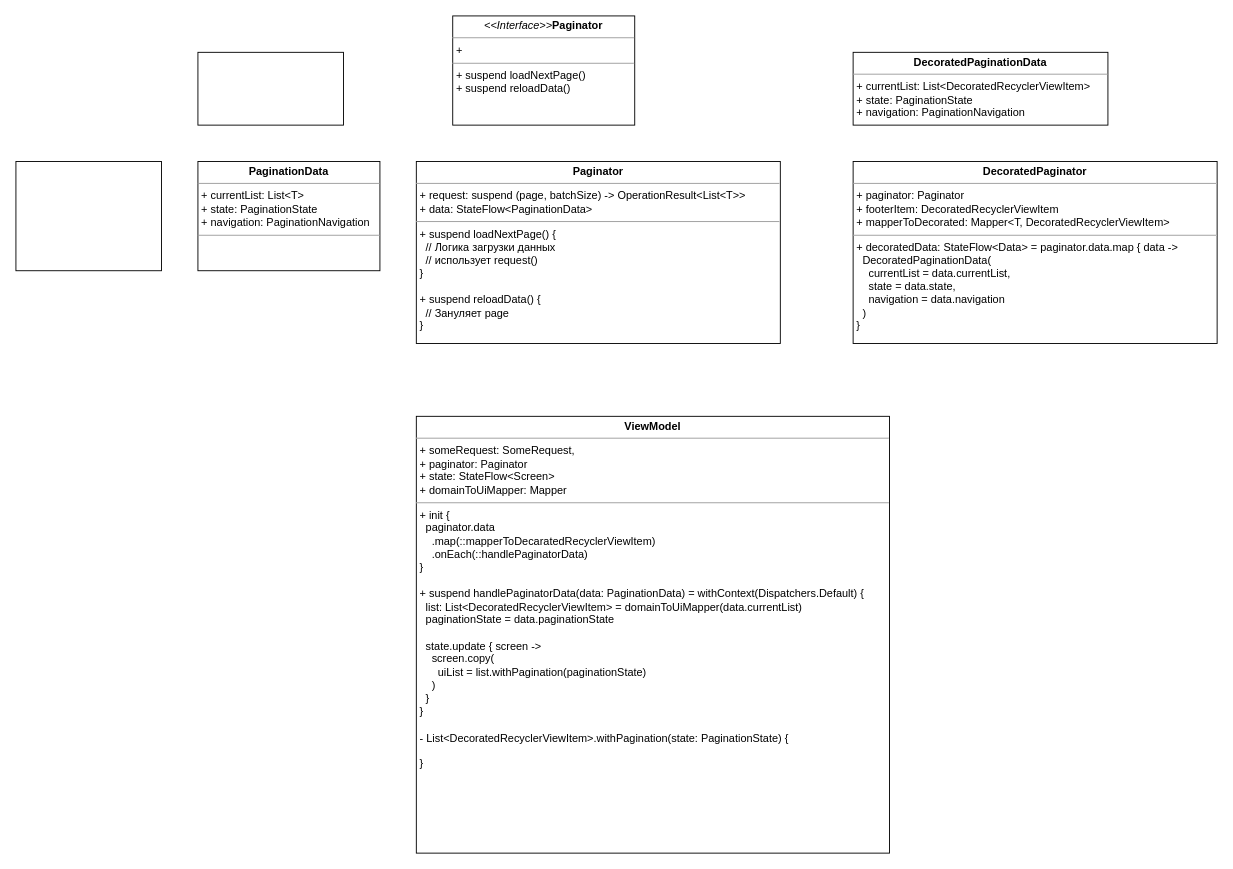
Some shapes in this 1233 by 869 pixel diagram are drawn without their labels. The shapes that lost their labels are listed below. From the top down, each one's centre as x and y in pixels, then its label:
At point (270, 88): "PaginationNavigation + currentPage: Int + batchSize: Int, + totalCount: Int".
At point (88, 216): "enum PaginationState + Completed + Ready + Error + Loading".
